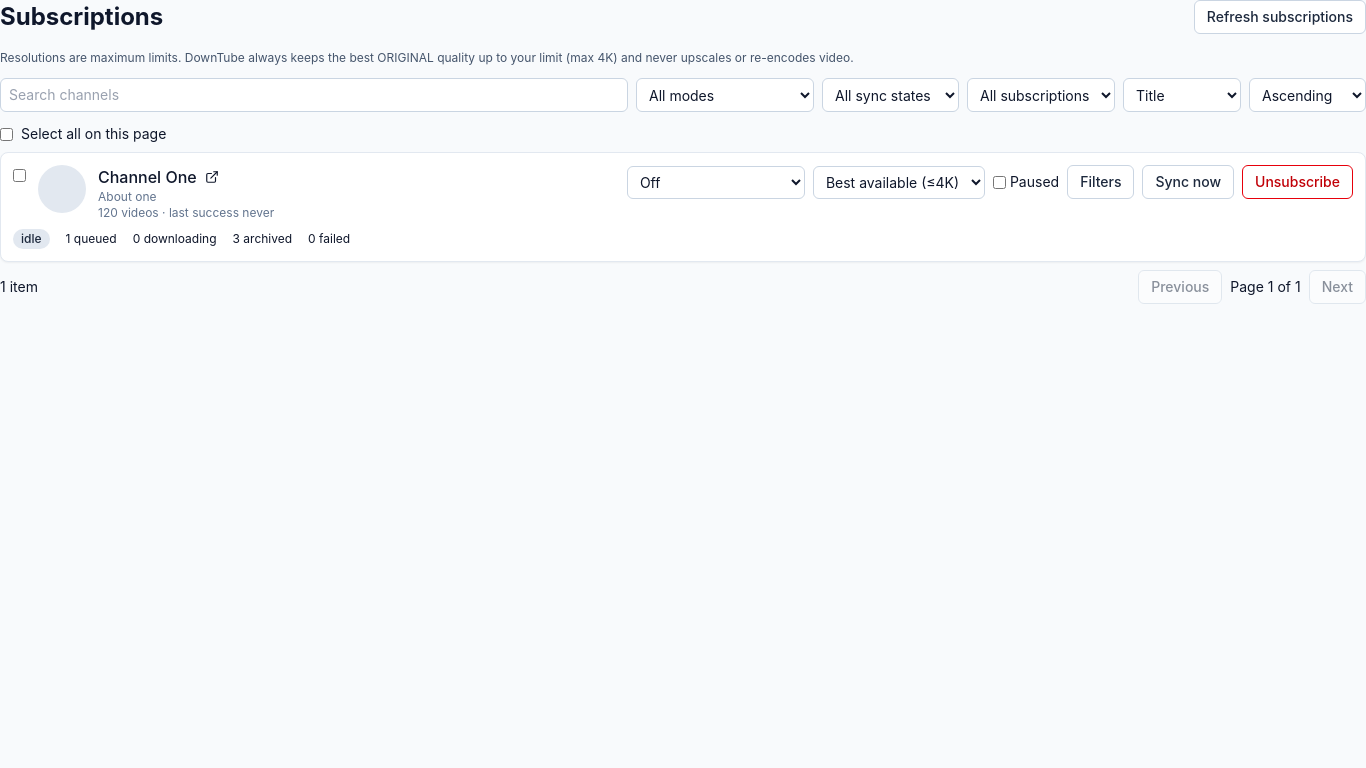
Test: SubscriptionsPage › asks for confirmation on large channels and resends with confirm_large
Select "Backfill existing once" in the dropdown named "Mode for Channel One" in the row of "Paused" at (716, 182), box [627,166,805,198]
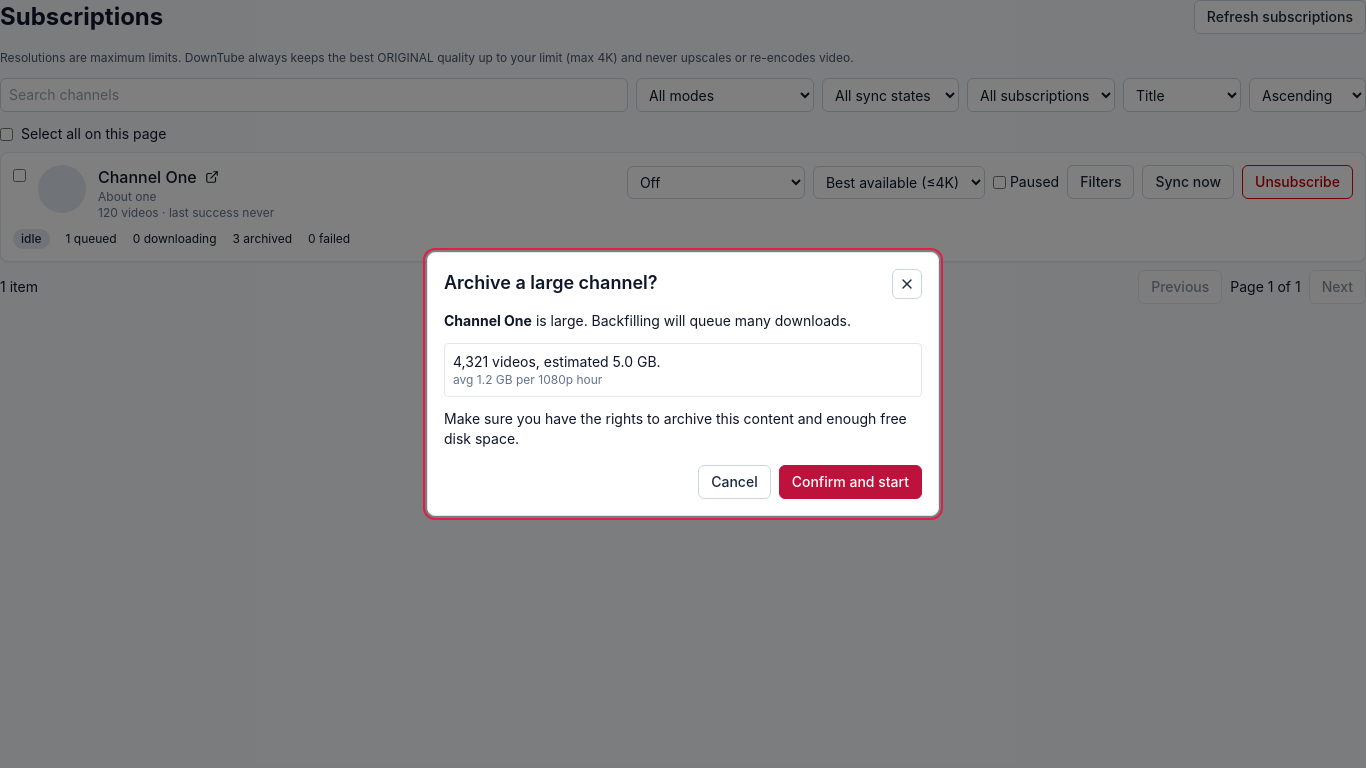
Now the dialog "large channel" shows "4,321", box [453,353,488,370]
Now the dialog "large channel" shows "5.0 GB", box [613,353,657,370]
Now the dialog "large channel" shows "avg 1.2 GB per 1080p hour", box [453,372,602,387]
Click the button "Confirm and start" at (850, 482), box [779,465,922,499]
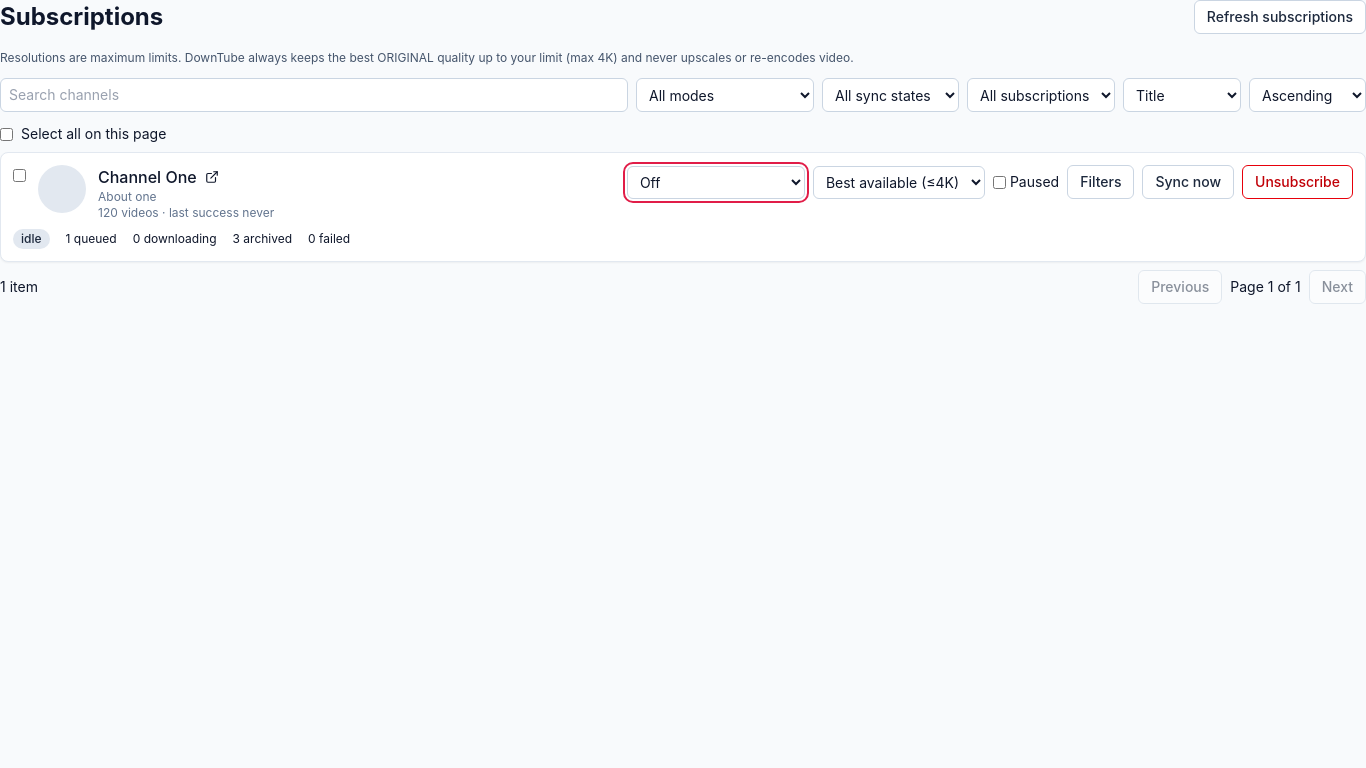
Now the dialog is gone
